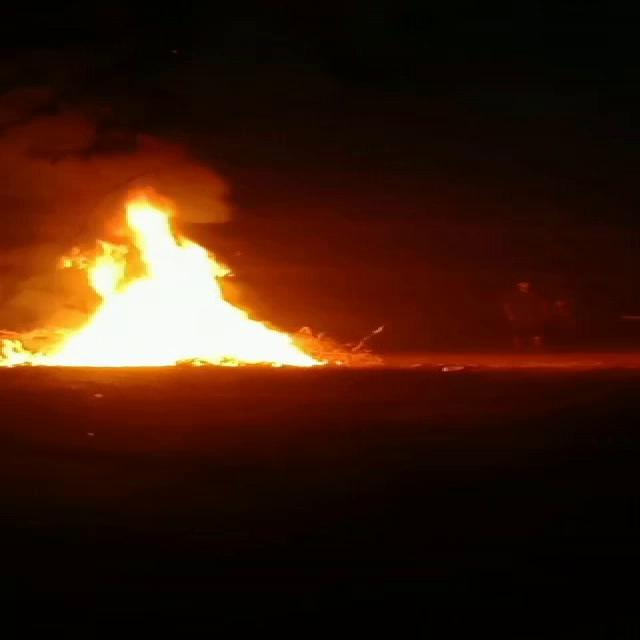Fire: (0, 172, 326, 370)
